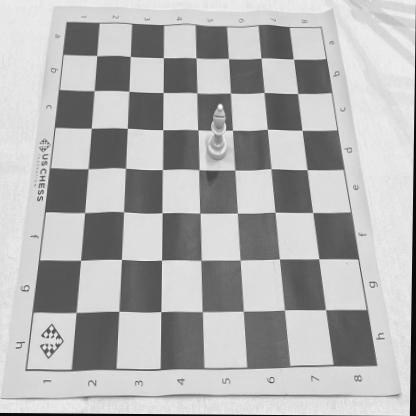white-bishop: (206, 103, 229, 162)
